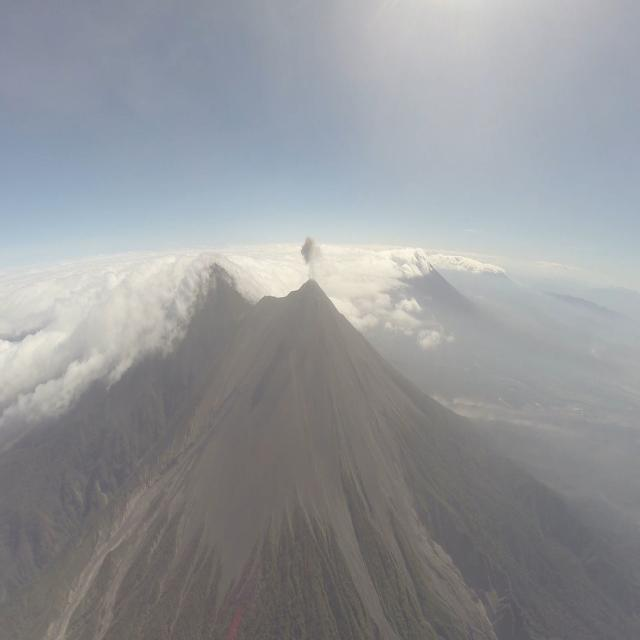Plume: (301, 235, 321, 272)
Summit: (286, 277, 334, 307)
